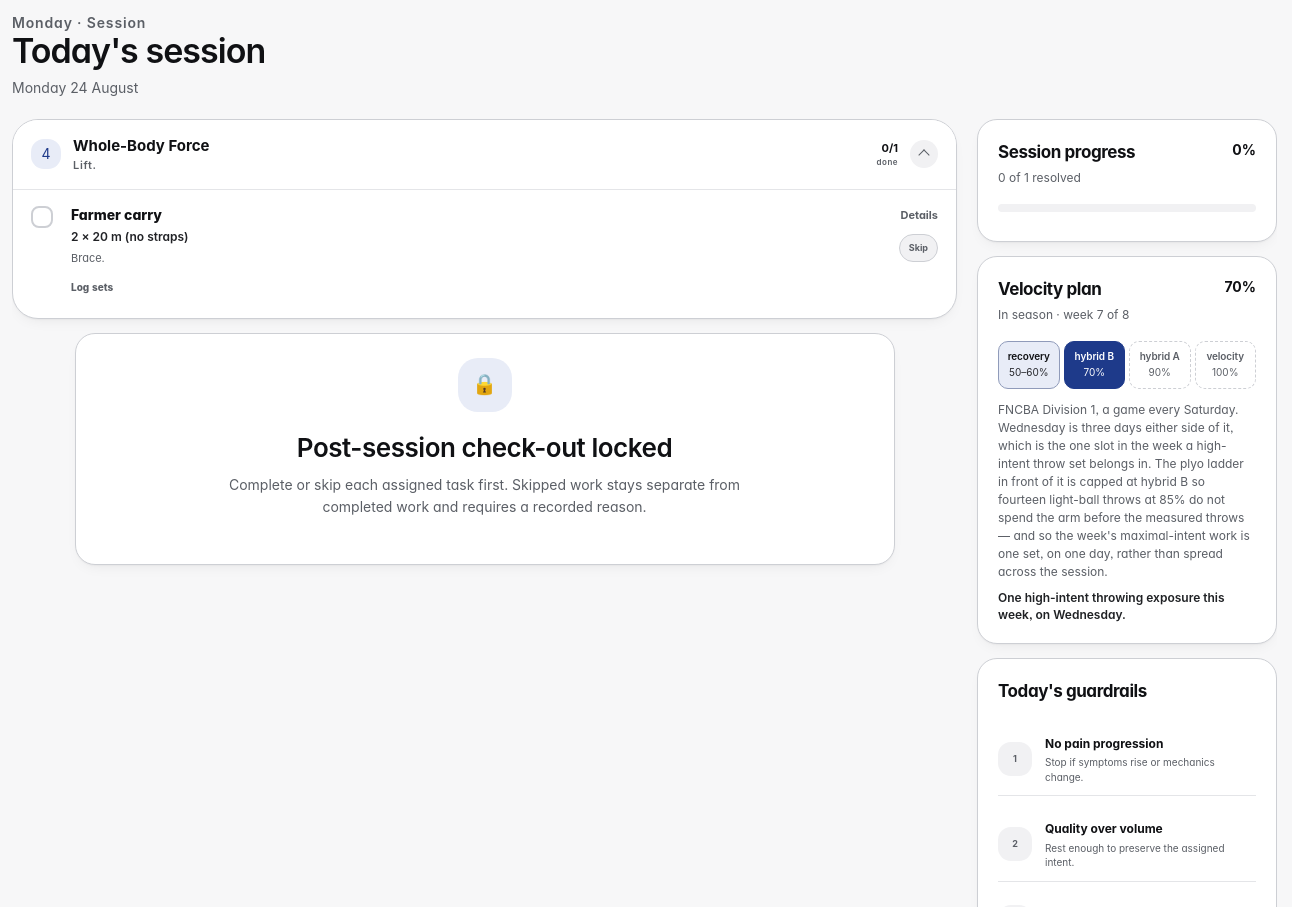
a carry, whose sets are metres › labels the column metres, not reps
The image size is (1292, 907).
Click the button "Log sets".
click(92, 288)  # box top-left (71, 273), bottom-right (113, 303)
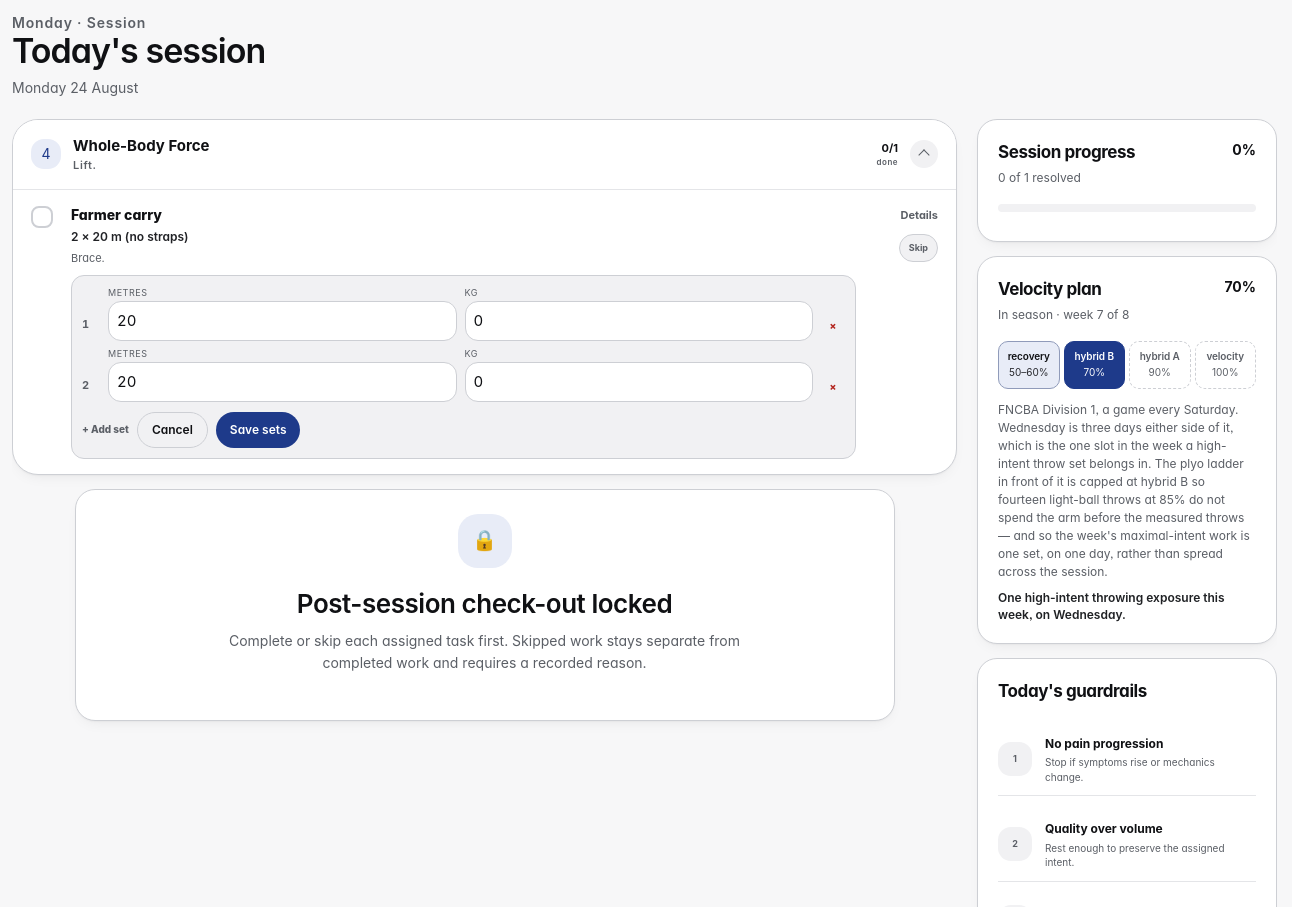
Result: the text "Metres" is shown 2 times at top-left (108, 287), bottom-right (148, 298); top-left (108, 348), bottom-right (148, 359)
